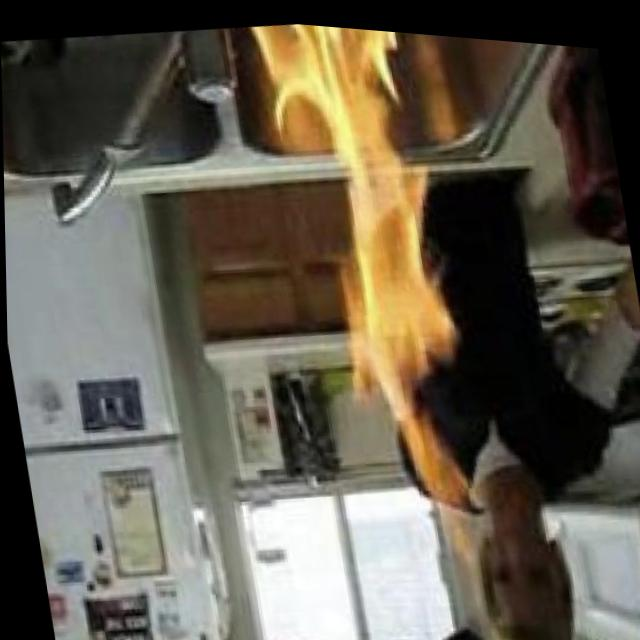Fire: (257, 16, 490, 515)
